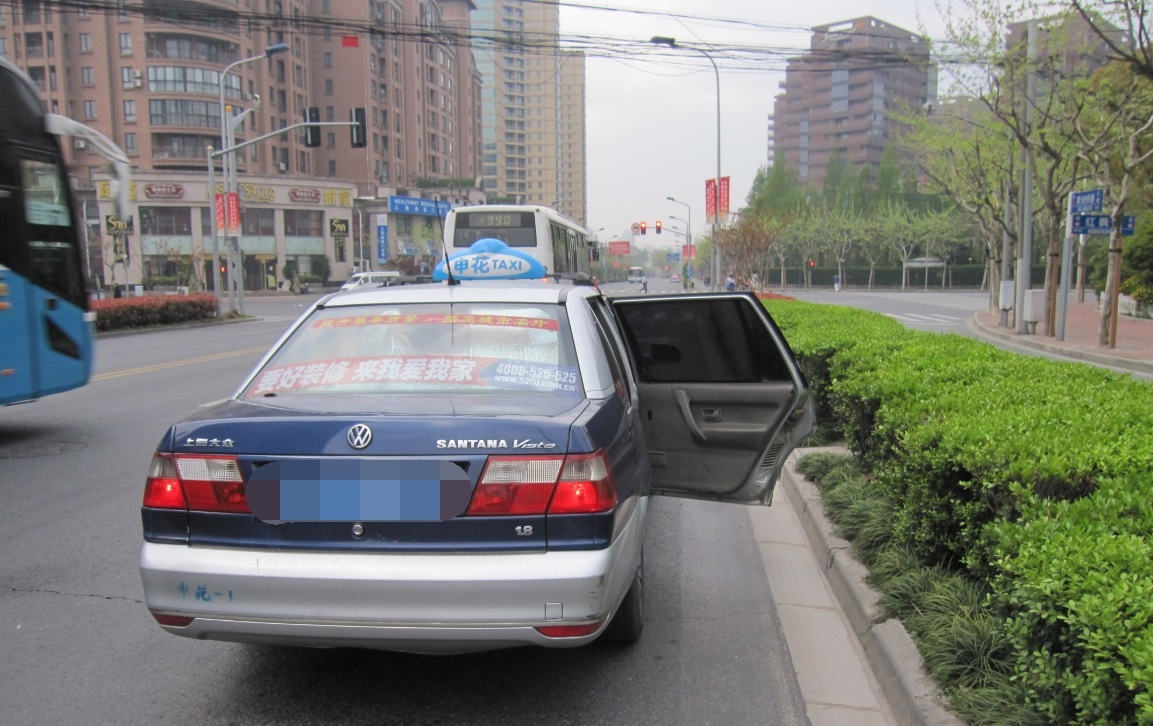taxi: (114, 195, 793, 664)
